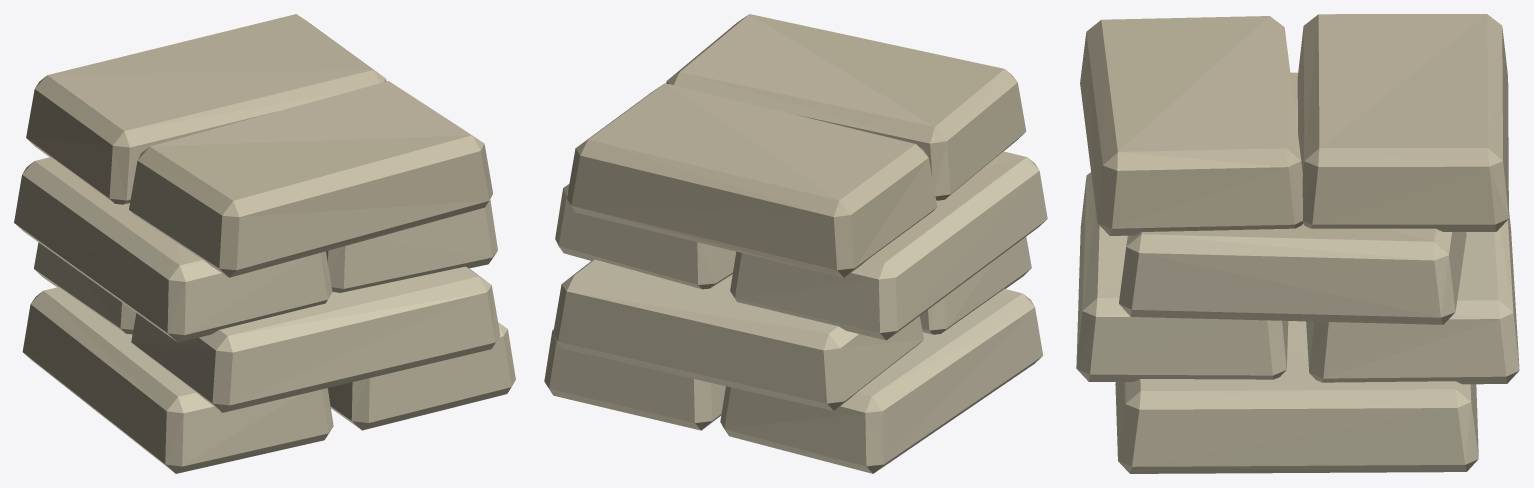
The model's file is sack-stack-00.glb.
3 renders of one model, left to right at view 1: azimuth 30°, elevation 25°; view 2: azimuth 150°, elevation 25°; view 3: azimuth 270°, elevation 25°, orthographic. The views are drawn at different scales.
Parts seen in each view (by area): view 1: sack_stack_00; view 2: sack_stack_00; view 3: sack_stack_00.
Part boxes in pixels (box(x1,y1,x2,y2)): sack_stack_00: box(14, 14, 515, 473); sack_stack_00: box(544, 14, 1047, 473); sack_stack_00: box(1076, 14, 1519, 473).
Size of the model in its own units: 0.983 by 0.7263 by 0.9718.
